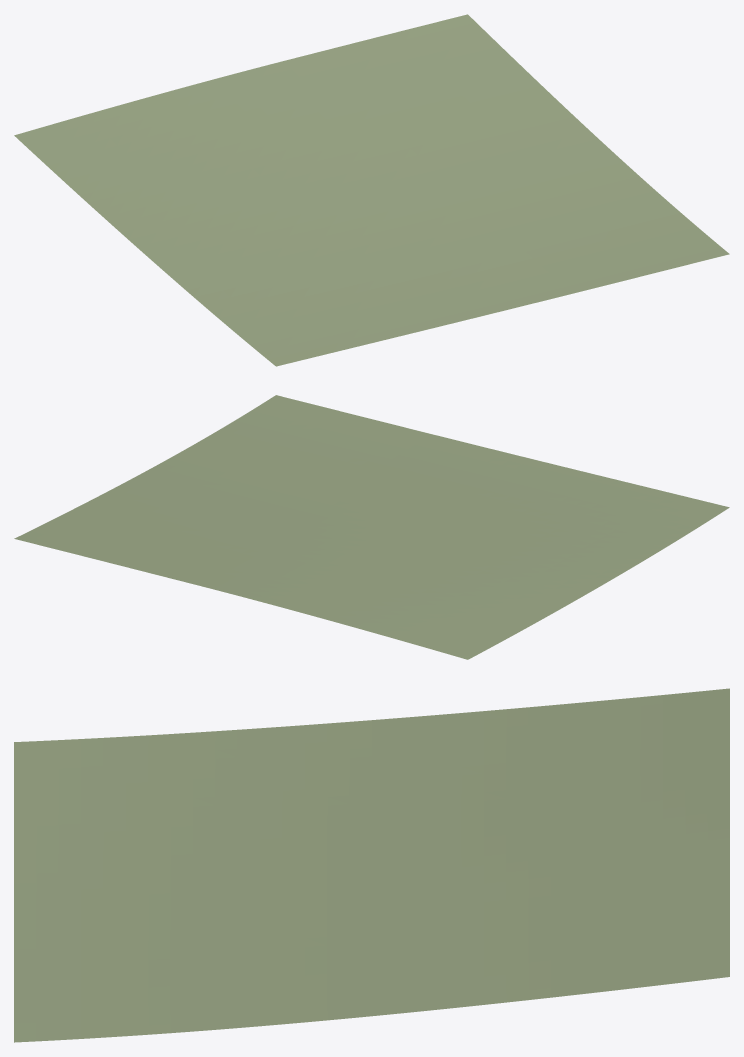
File: desert-24-12.glb
The picture shows the model from 3 angles, top to bottom: view 1: azimuth 30°, elevation 25°; view 2: azimuth 150°, elevation 25°; view 3: azimuth 270°, elevation 25°; orthographic projection. The views are drawn at different scales.
Visible parts, largest first — view 1: desert-24-12; view 2: desert-24-12; view 3: desert-24-12.
Part boxes in pixels (left/top/right/bottom): desert-24-12: left=14, top=14, right=729, bottom=366; desert-24-12: left=14, top=395, right=729, bottom=659; desert-24-12: left=14, top=688, right=729, bottom=1042.
Size of the model in its own units: 512 by 53.5 by 512.
